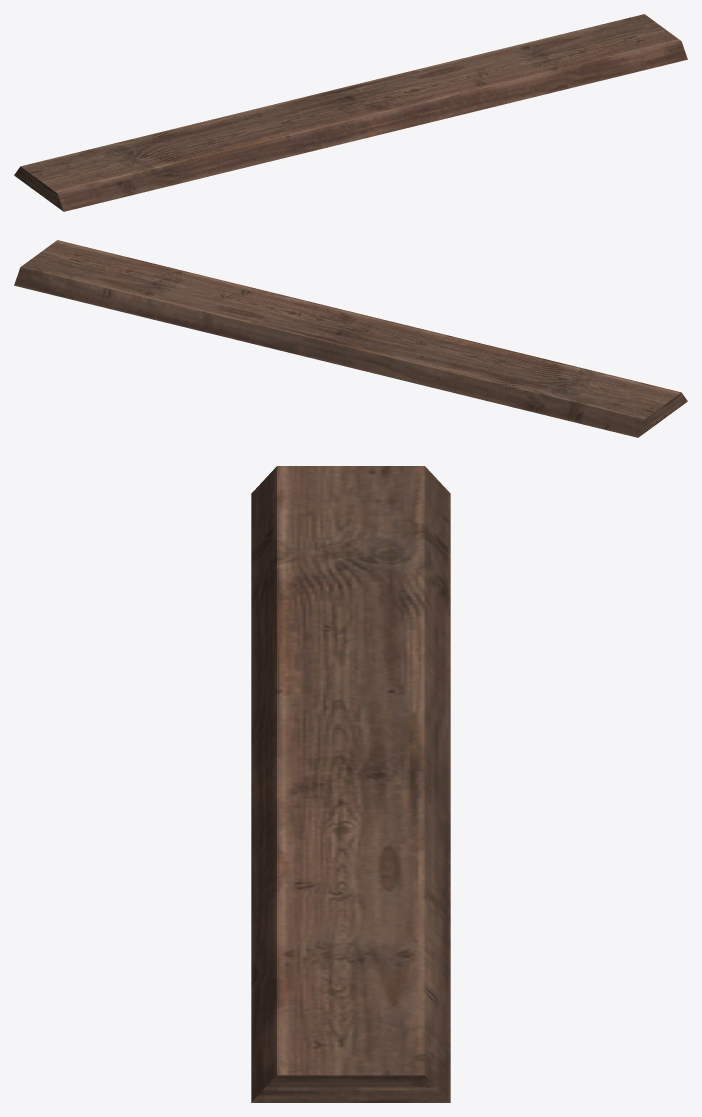
File: bg_lut_lucastle_houseindeco01_sm_ysi.FBX
The picture shows the model from 3 angles, top to bottom: view 1: azimuth 30°, elevation 25°; view 2: azimuth 150°, elevation 25°; view 3: azimuth 270°, elevation 25°; orthographic projection. The views are drawn at different scales.
Parts seen in each view (by area): view 1: bg_lut_lucastle_houseindeco01_sm_ysi; view 2: bg_lut_lucastle_houseindeco01_sm_ysi; view 3: bg_lut_lucastle_houseindeco01_sm_ysi.
Part boxes in pixels (bbox=[...]): bg_lut_lucastle_houseindeco01_sm_ysi: bbox=[14, 14, 687, 211]; bg_lut_lucastle_houseindeco01_sm_ysi: bbox=[14, 240, 687, 437]; bg_lut_lucastle_houseindeco01_sm_ysi: bbox=[251, 466, 450, 1102].
Bounding box in the file's own units: 256 × 5.4 × 35.41.
